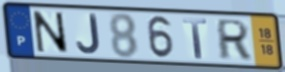6: (145, 14, 176, 60)
8: (107, 11, 140, 60)
J: (75, 13, 102, 56)
N: (31, 9, 71, 55)
R: (216, 19, 252, 62)
T: (181, 17, 209, 60)
